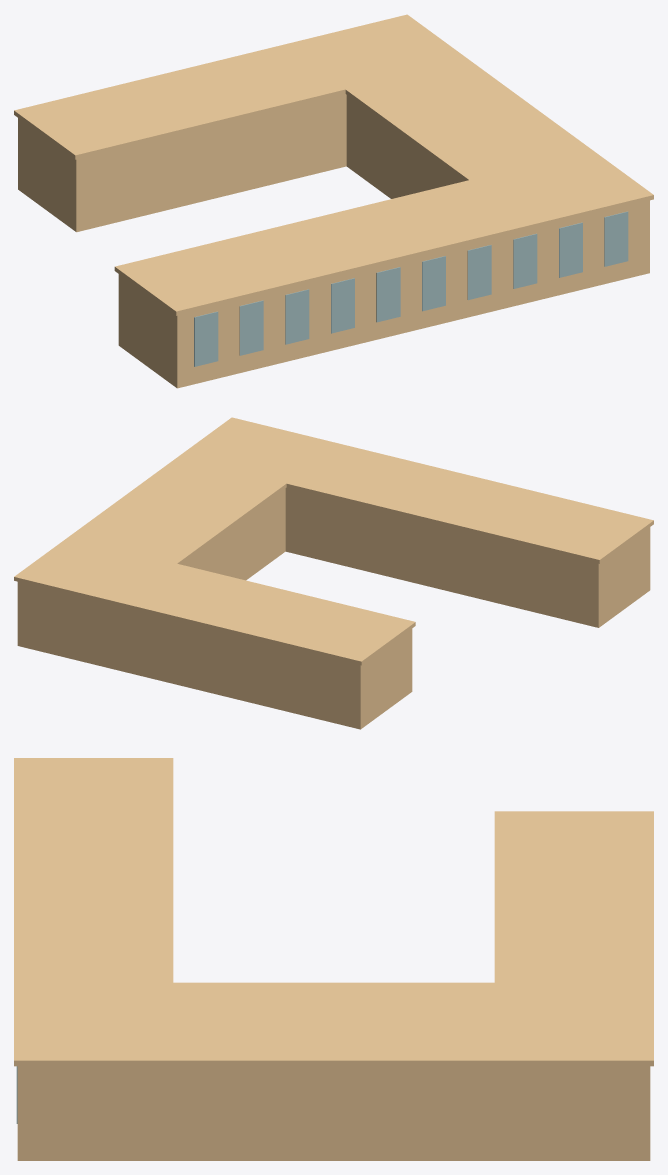
The model's file is modelo.glb.
The picture shows the model from 3 angles, top to bottom: view 1: azimuth 30°, elevation 25°; view 2: azimuth 150°, elevation 25°; view 3: azimuth 270°, elevation 25°; orthographic projection. The views are drawn at different scales.
Parts seen in each view (by area): view 1: frente_cornisa, frente, fondo, lateral_cornisa, fondo_cornisa, vano_referencial (×10), lateral; view 2: frente_cornisa, frente, fondo, lateral_cornisa, fondo_cornisa, lateral; view 3: frente_cornisa, lateral, lateral_cornisa, fondo_cornisa, frente.
Boxes of the visible parts, x1,y1,x2,y2 form: frente_cornisa: [114, 150, 653, 315]; frente: [118, 200, 649, 388]; fondo: [18, 94, 346, 232]; lateral_cornisa: [284, 14, 591, 181]; fondo_cornisa: [14, 43, 349, 159]; vano_referencial (×10): [194, 211, 628, 366]; lateral: [346, 95, 464, 198]; frente_cornisa: [178, 417, 653, 563]; frente: [285, 487, 650, 627]; fondo: [122, 607, 412, 729]; lateral_cornisa: [14, 457, 287, 606]; fondo_cornisa: [118, 563, 415, 665]; lateral: [17, 488, 285, 671]; frente_cornisa: [14, 758, 173, 1066]; lateral: [169, 1066, 650, 1160]; lateral_cornisa: [165, 982, 653, 1066]; fondo_cornisa: [494, 811, 653, 985]; frente: [17, 1066, 169, 1160].
Size of the model in its own units: 28.3 by 4.45 by 25.3.
